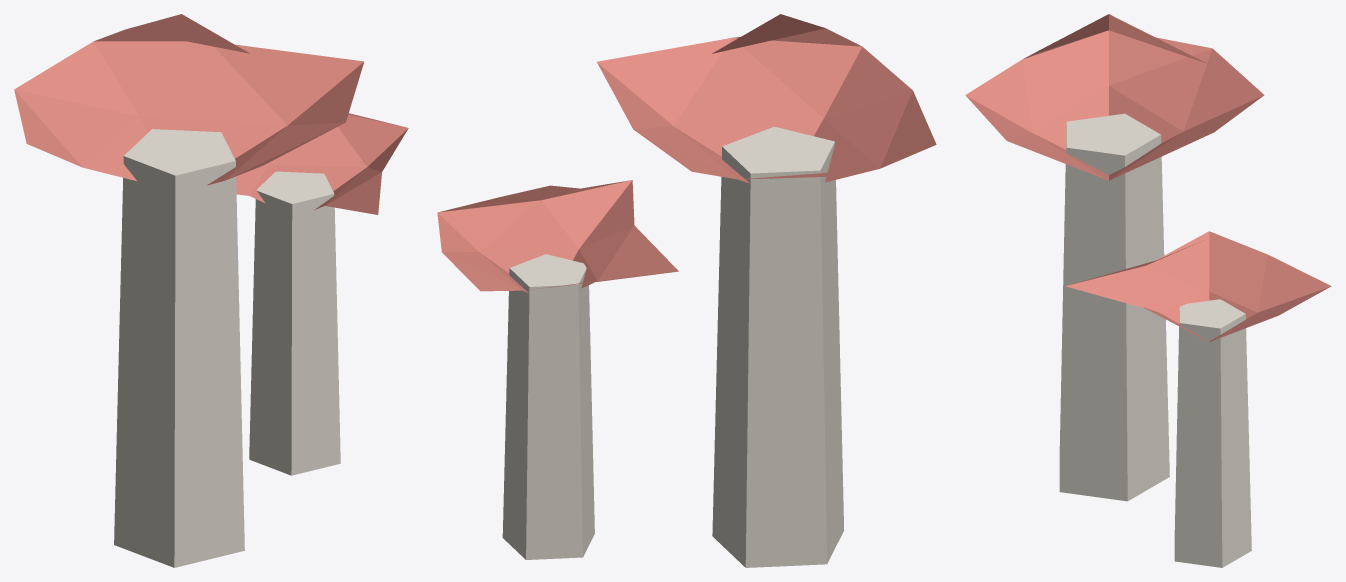
File: mushroom_v36.glb
3 views of the same model, side by side, from view 1: azimuth 30°, elevation 25°; view 2: azimuth 150°, elevation 25°; view 3: azimuth 270°, elevation 25° (orthographic). The views are drawn at different scales.
Visible parts, largest first — view 1: lod0; view 2: lod0; view 3: lod0.
Boxes of the visible parts, bbox=[...] form: lod0: bbox=[14, 14, 408, 567]; lod0: bbox=[437, 14, 936, 567]; lod0: bbox=[965, 14, 1331, 567].
Size of what is drawn, in the model's own units: 0.3078 by 0.3517 by 0.2524.
